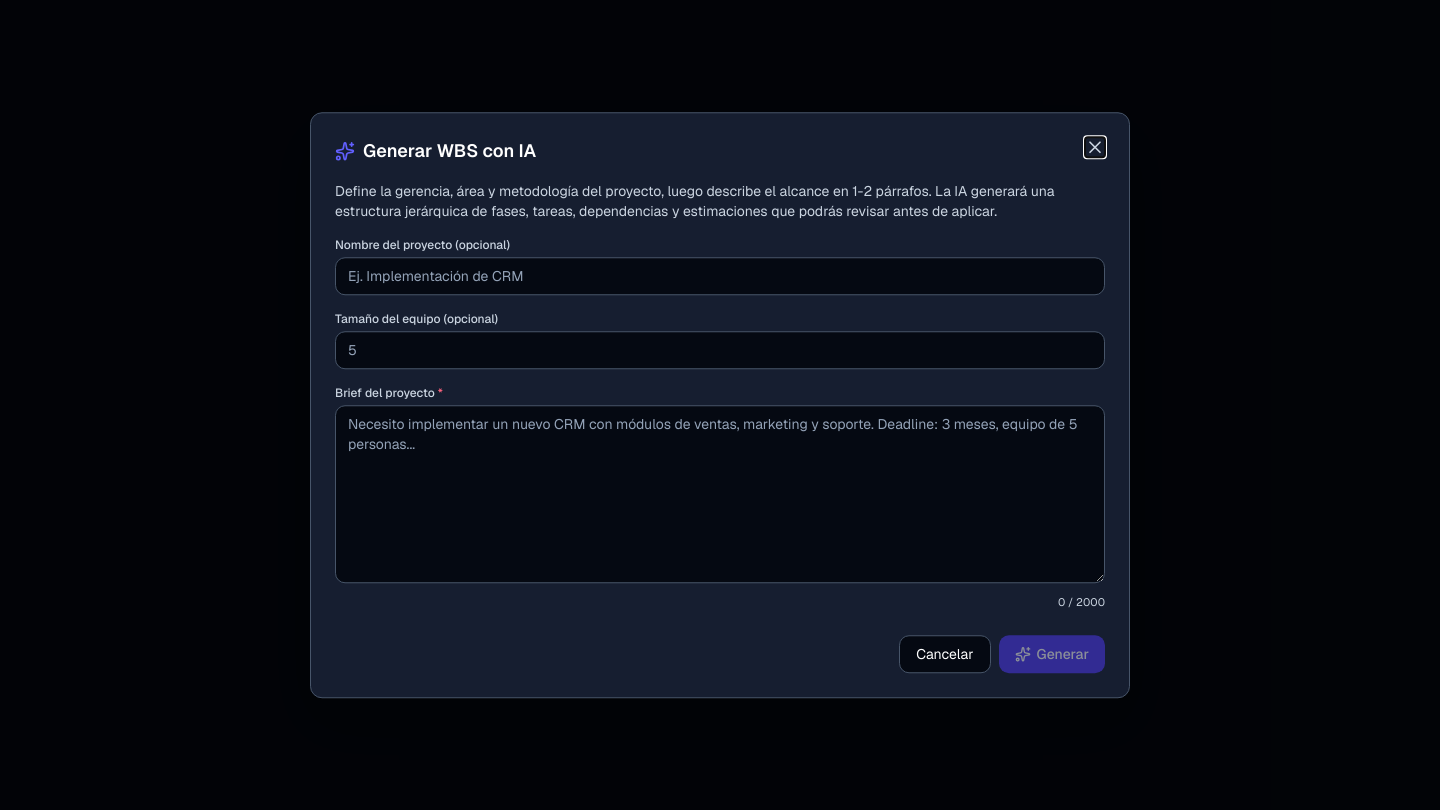
Test: WBSGeneratorDialog › aplica el WBS y muestra estado "done" tras éxito
Type "Implementar CRM con módulo de ventas y soporte" into the text box labelled "Brief del proyecto *" at (720, 494), box top-left (335, 405), bottom-right (1105, 583)
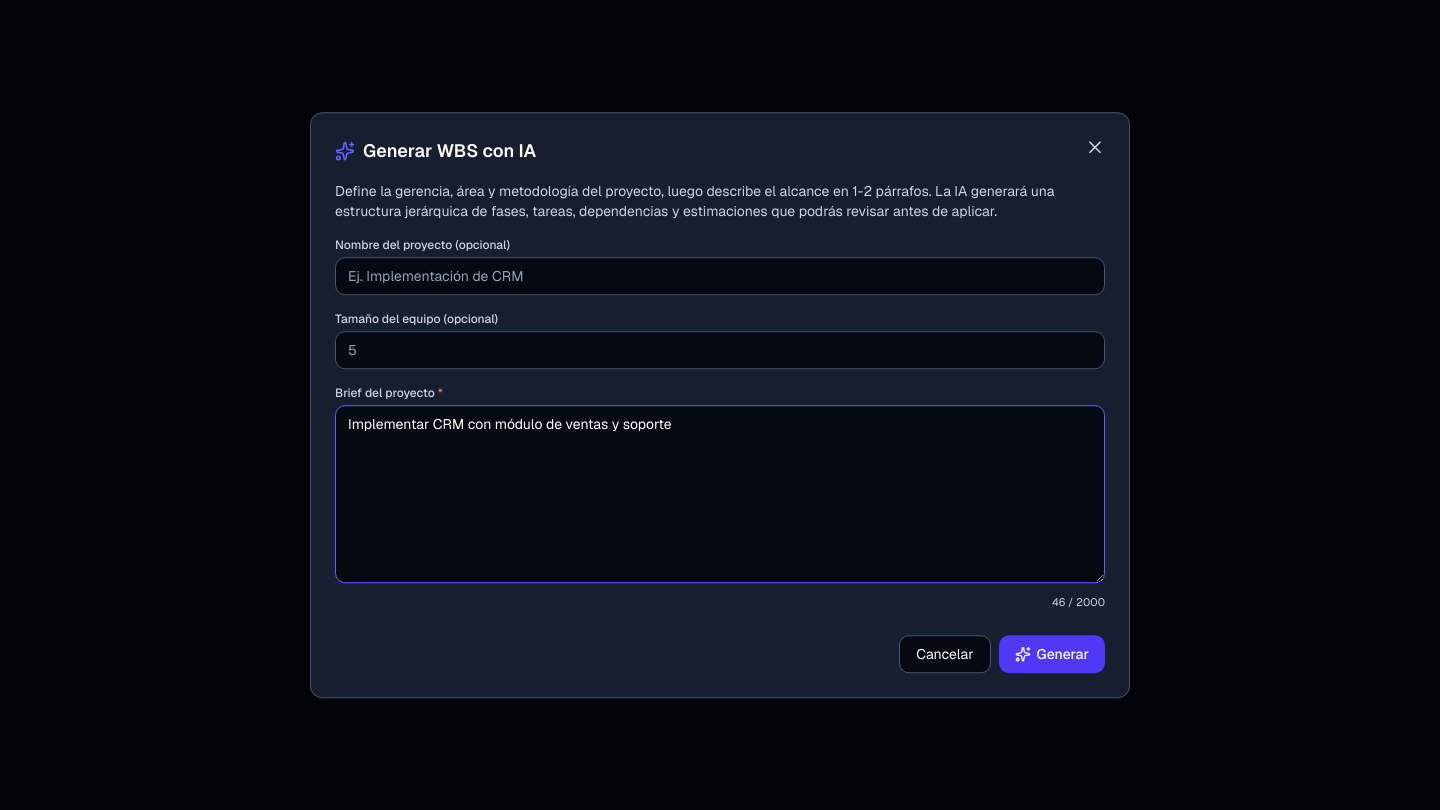
Click the button "Generar" at (1052, 654), box top-left (998, 635), bottom-right (1105, 673)
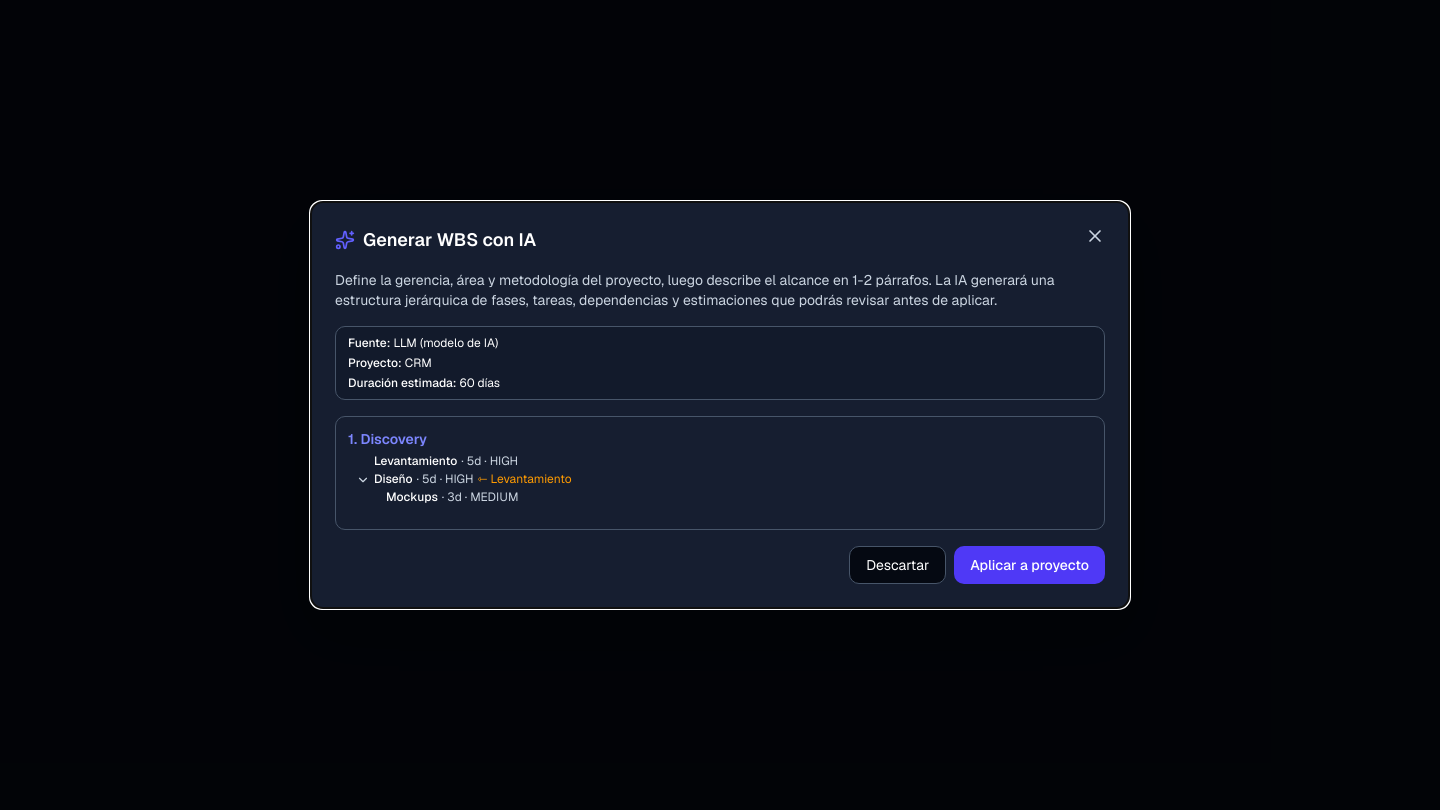
Check: the element with test id "wbs-preview" is shown, box top-left (335, 326), bottom-right (1105, 584)
Click the button "Aplicar a proyecto" at (1030, 565), box top-left (954, 546), bottom-right (1105, 584)
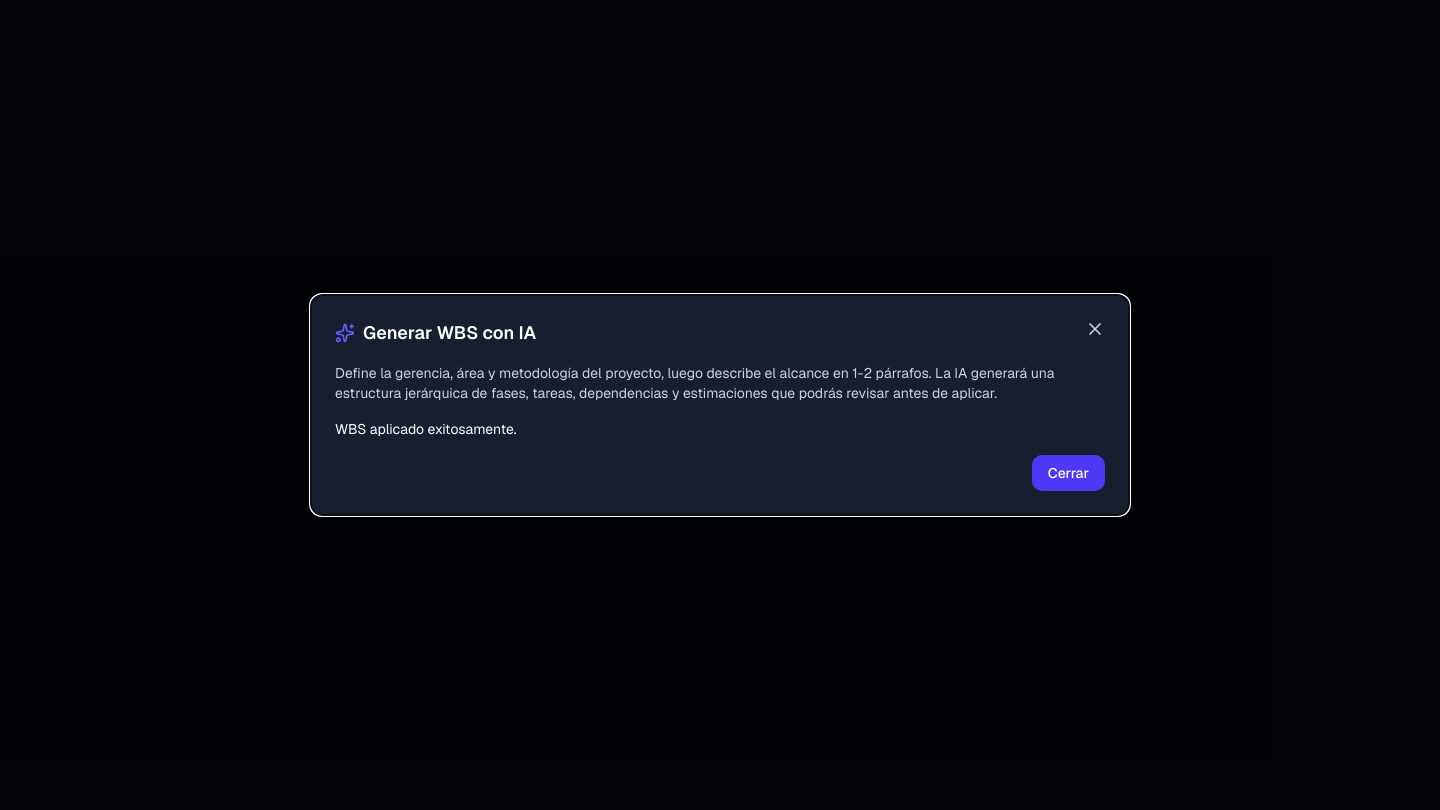
Check: the text "WBS aplicado exitosamente." is shown, box top-left (335, 420), bottom-right (517, 438)
